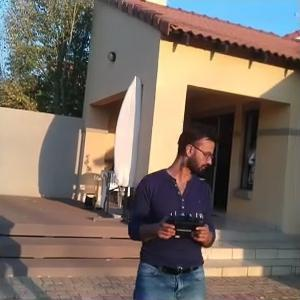follow: (124, 116, 222, 298)
